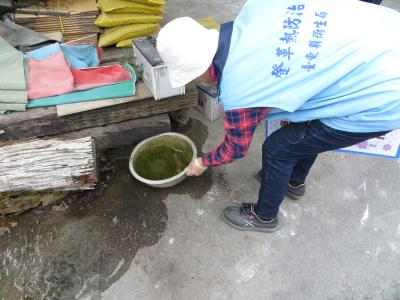bowl: (126, 131, 201, 191)
